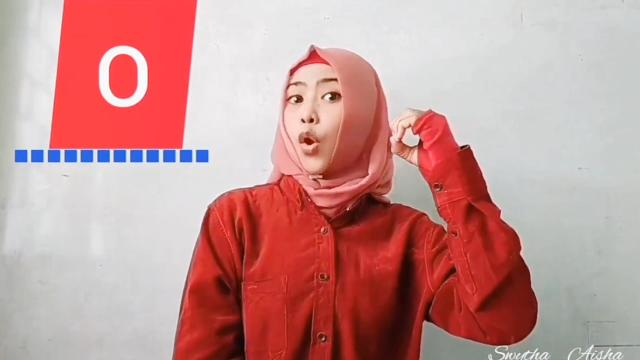O: (388, 104, 460, 178)
